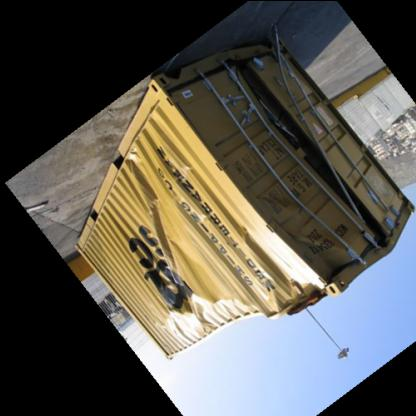Damage: (225, 60, 367, 242), (114, 162, 226, 320)
